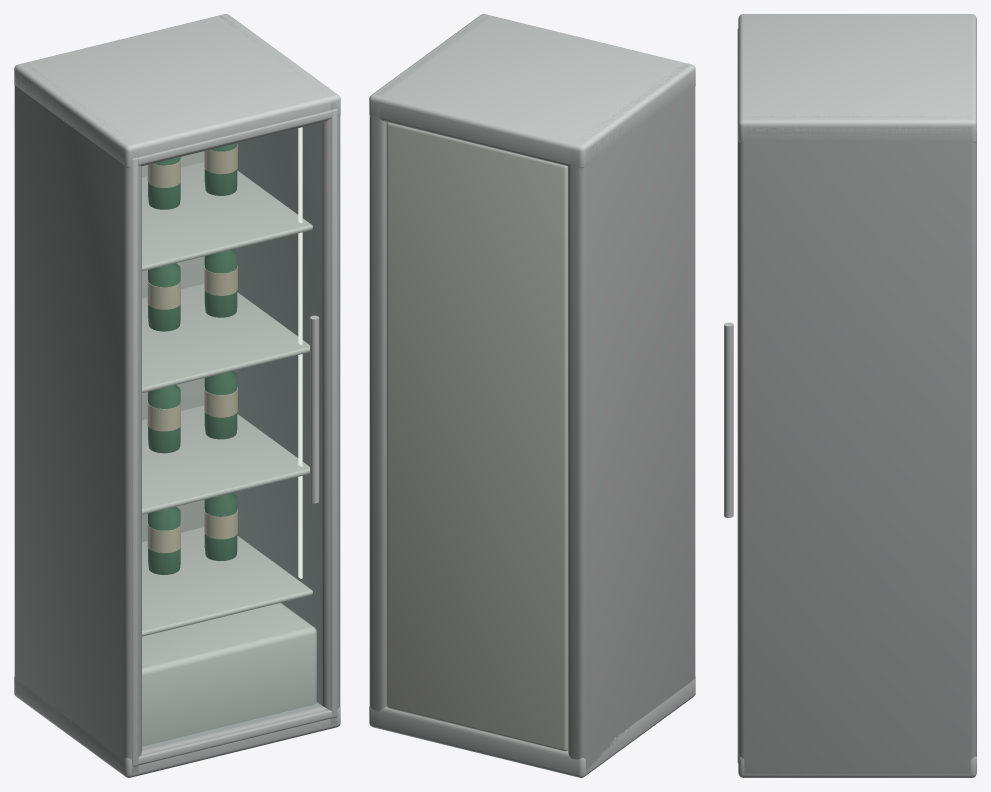
Rendered from glass-fridge-lod0.glb.
3 views of the same model, side by side, from view 1: azimuth 30°, elevation 25°; view 2: azimuth 150°, elevation 25°; view 3: azimuth 270°, elevation 25° (orthographic). The views are drawn at different scales.
Parts seen in each view (by area): view 1: glass-fridge.lod0__furniture polished nickel, glass-fridge.lod0::fridge door__fridge glass, glass-fridge.lod0__fridge ivory interior, glass-fridge.lod0::fridge door__furniture polished nickel, glass-fridge.lod0__fridge bottle green, glass-fridge.lod0__fridge label cream, glass-fridge.lod0__fridge warm light; view 2: glass-fridge.lod0__furniture polished nickel, glass-fridge.lod0__fridge ivory interior; view 3: glass-fridge.lod0__furniture polished nickel, glass-fridge.lod0::fridge door__furniture polished nickel.
Part boxes in pixels (x1,y1,x2,y2): glass-fridge.lod0__furniture polished nickel: (14, 14, 340, 777); glass-fridge.lod0::fridge door__fridge glass: (142, 123, 321, 748); glass-fridge.lod0__fridge ivory interior: (142, 151, 316, 746); glass-fridge.lod0::fridge door__furniture polished nickel: (132, 109, 337, 766); glass-fridge.lod0__fridge bottle green: (148, 143, 237, 574); glass-fridge.lod0__fridge label cream: (147, 143, 237, 553); glass-fridge.lod0__fridge warm light: (298, 127, 302, 578); glass-fridge.lod0__furniture polished nickel: (369, 14, 695, 777); glass-fridge.lod0__fridge ivory interior: (386, 122, 567, 751); glass-fridge.lod0__furniture polished nickel: (738, 14, 976, 777); glass-fridge.lod0::fridge door__furniture polished nickel: (724, 28, 738, 763).
Size of the model in its own units: 0.7601 by 2.13 by 0.742.
